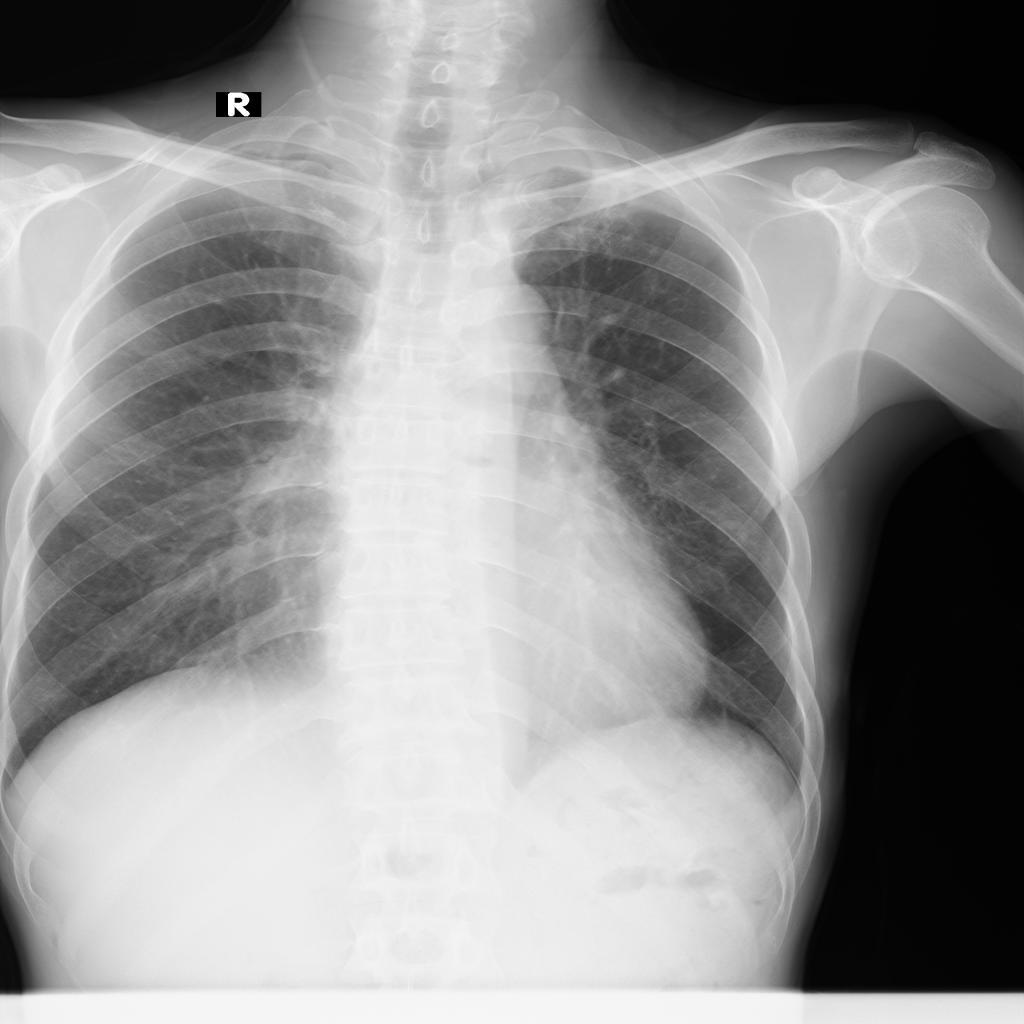Nodule: (714, 521, 750, 551)
